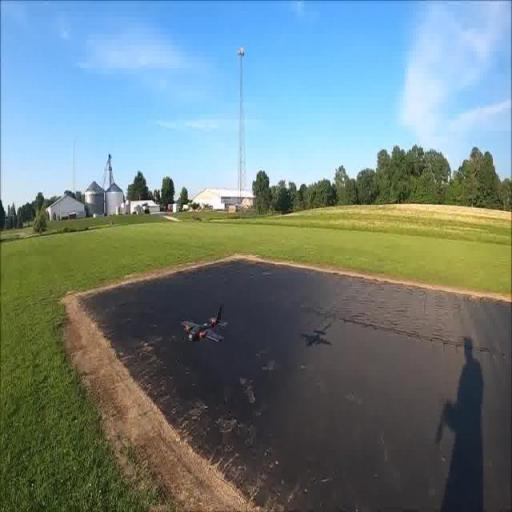uav: (176, 300, 230, 355)
